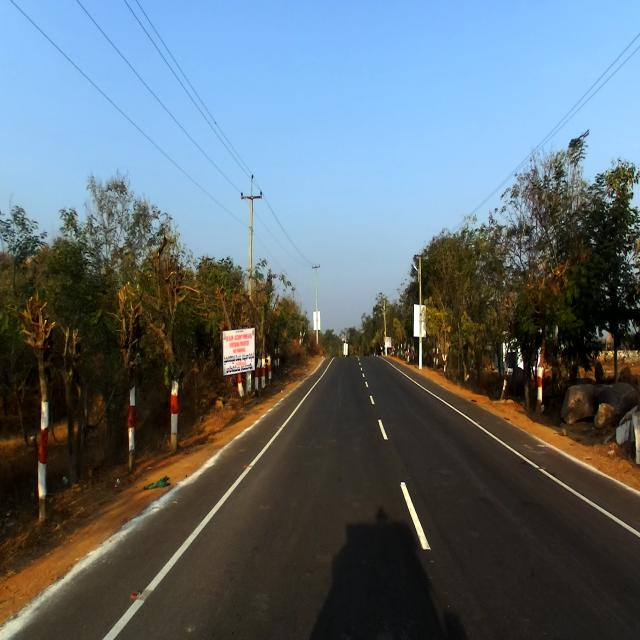tree ahead at: (6, 242, 80, 531), (104, 259, 149, 472), (154, 267, 191, 464)
